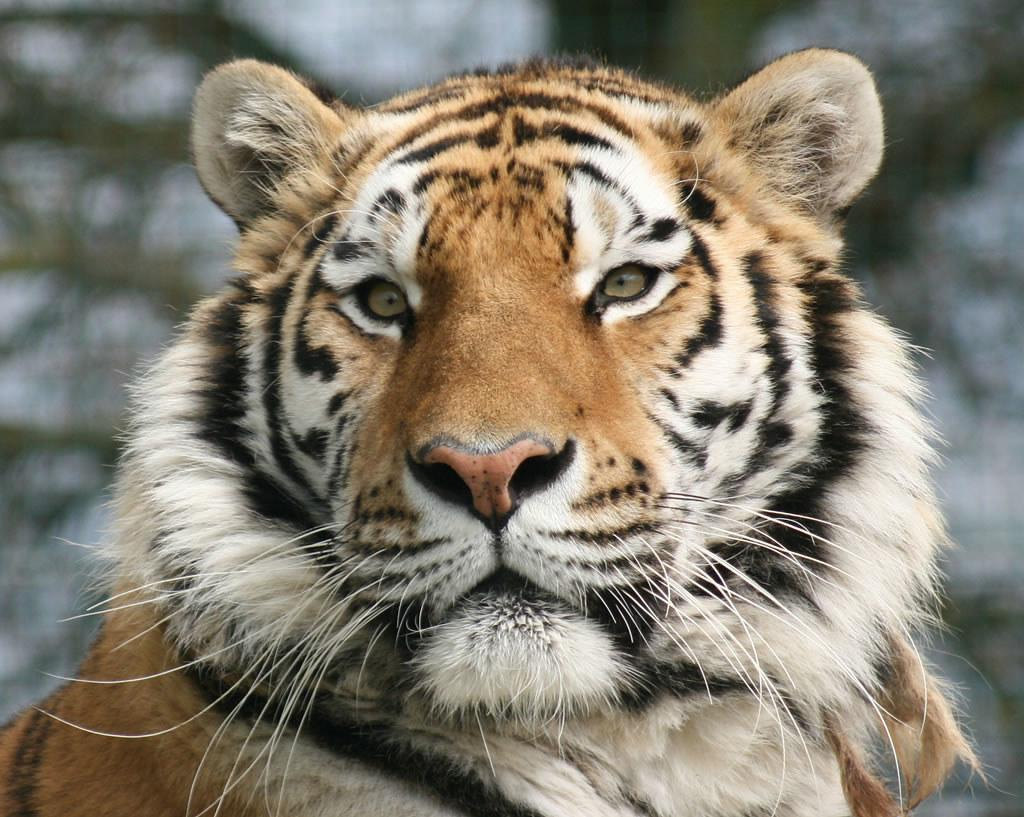tiger: (2, 45, 1000, 816)
